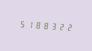eight: (41, 19, 48, 31), (33, 19, 40, 30)
five: (17, 18, 24, 29)
one: (25, 18, 32, 30)
three: (49, 20, 56, 31)
two: (57, 20, 64, 32), (65, 21, 72, 32)
